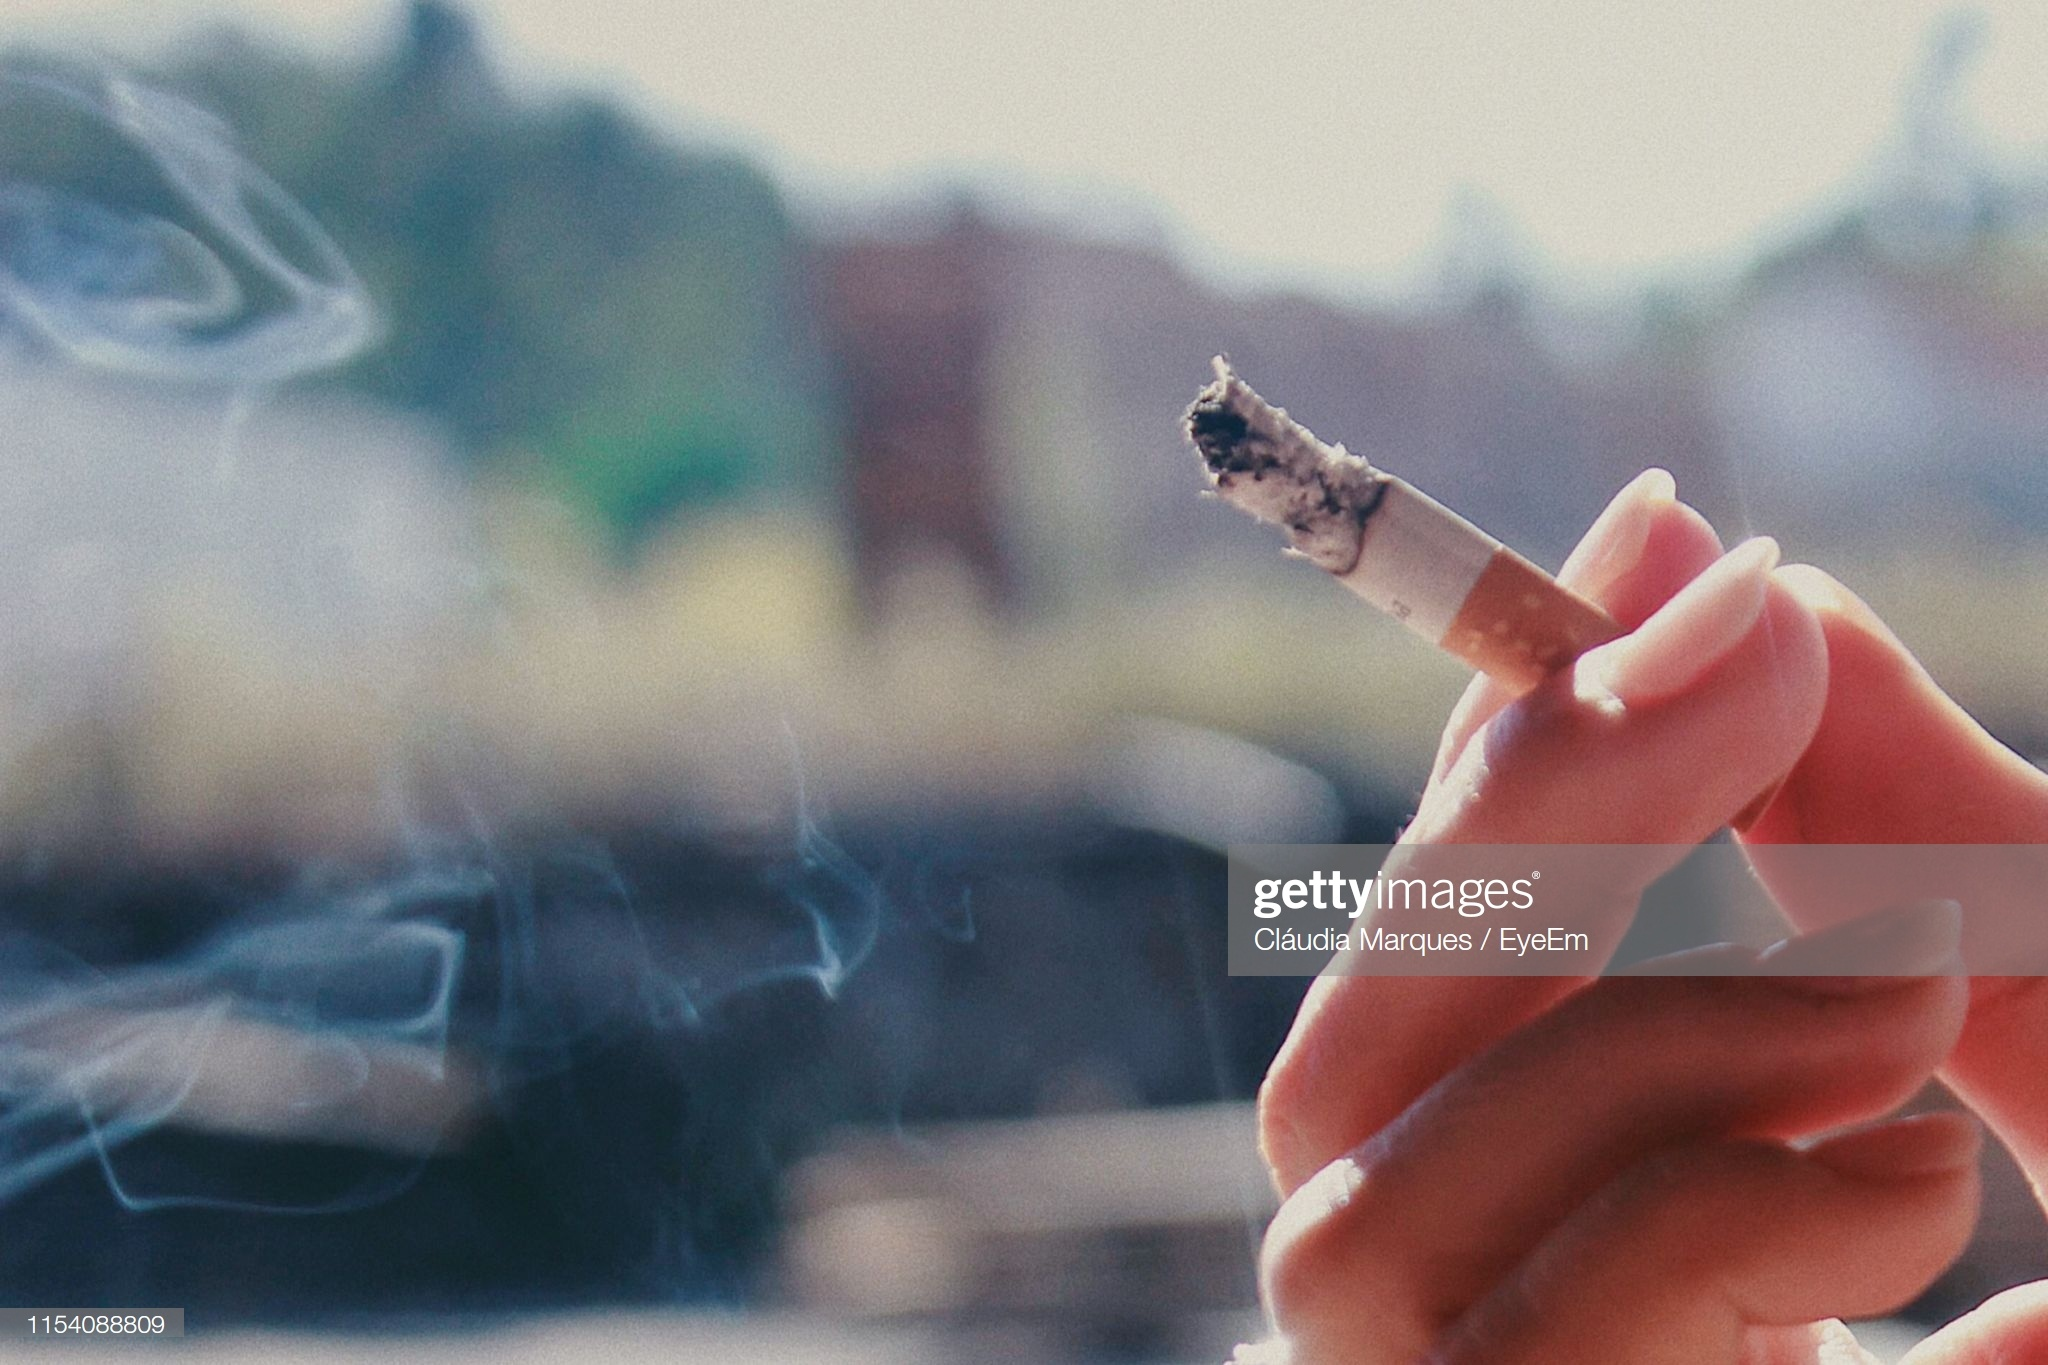sigaretta: (1169, 393, 1747, 818)
